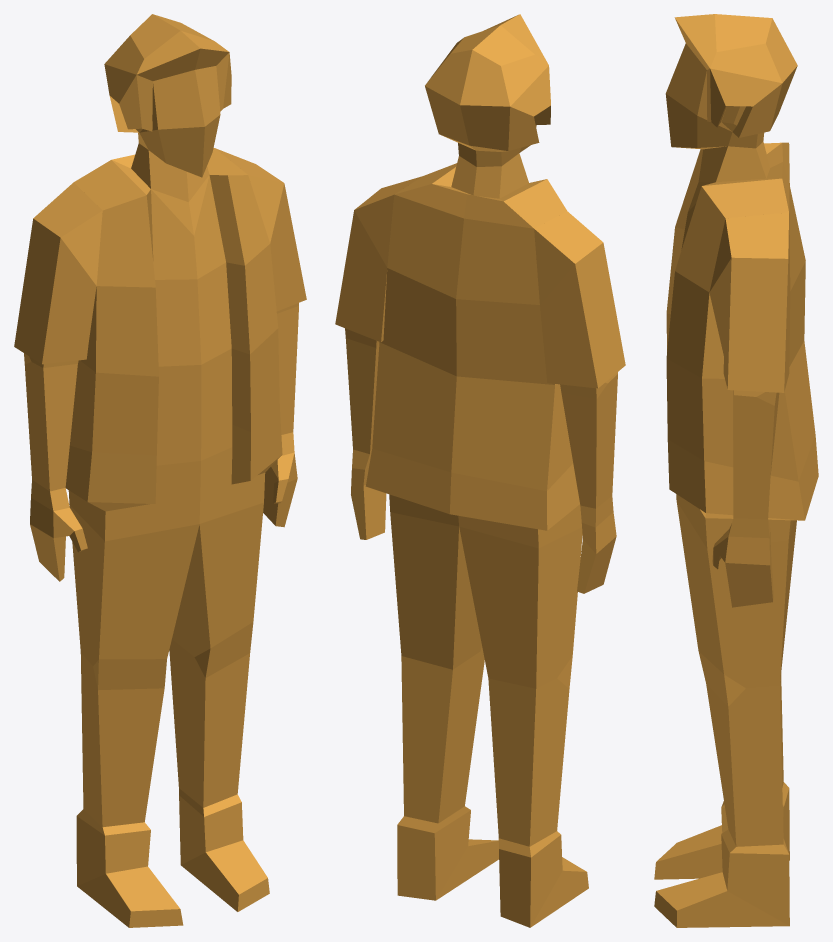
File: man-pedestrian.fbx
The picture shows the model from 3 angles, left to right: view 1: azimuth 30°, elevation 25°; view 2: azimuth 150°, elevation 25°; view 3: azimuth 270°, elevation 25°; orthographic projection. The views are drawn at different scales.
Visible parts, largest first — view 1: man-pedestrian; view 2: man-pedestrian; view 3: man-pedestrian.
Boxes of the visible parts, left/top/right/bottom form: man-pedestrian: left=14, top=14, right=306, bottom=927; man-pedestrian: left=335, top=14, right=625, bottom=927; man-pedestrian: left=654, top=14, right=818, bottom=927.
Size of the model in its own units: 0.5855 by 1.83 by 0.3102.
